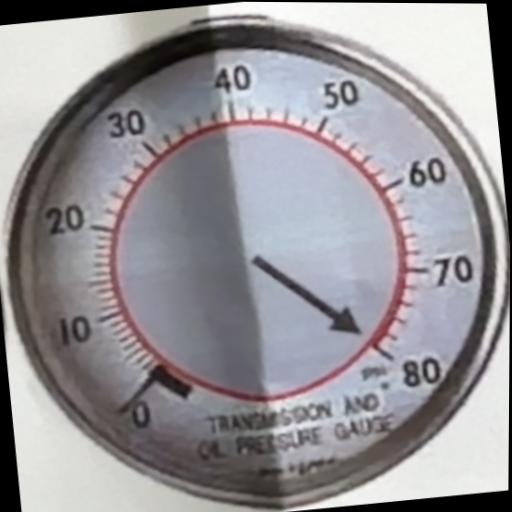needle: (233, 236, 378, 352)
